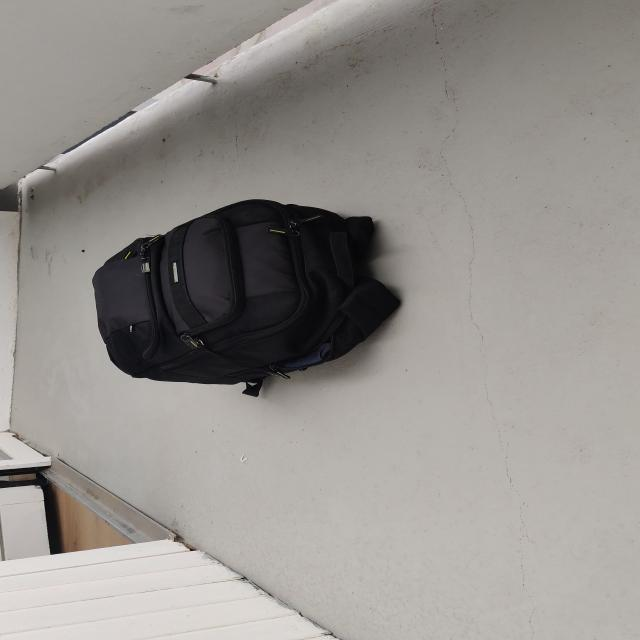backpack: (79, 190, 409, 392)
